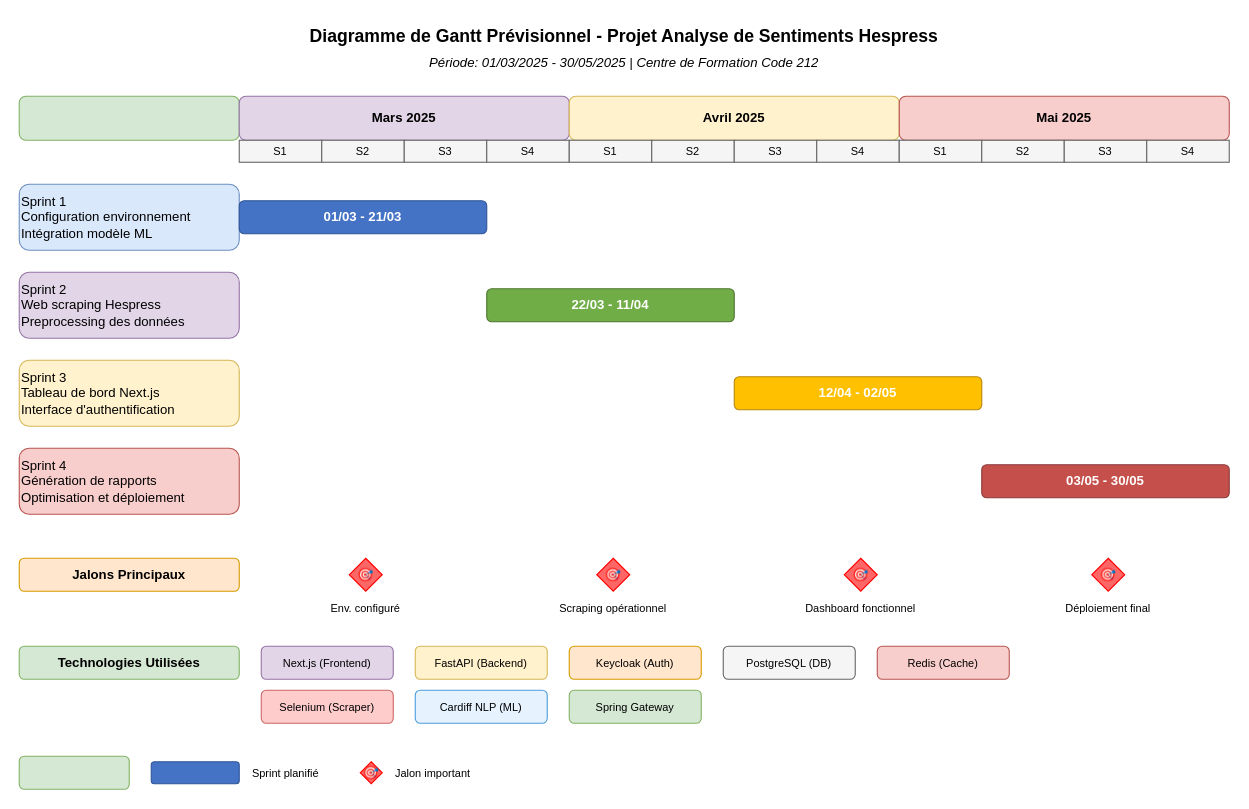
Image size: 1249x809. Some labels were removed from this diagram. Here are the shapes that lost their labels. From the top down, the box of each, then its label:
(18, 95, 239, 140): Tâches / Sprints
(18, 755, 129, 789): Légende
